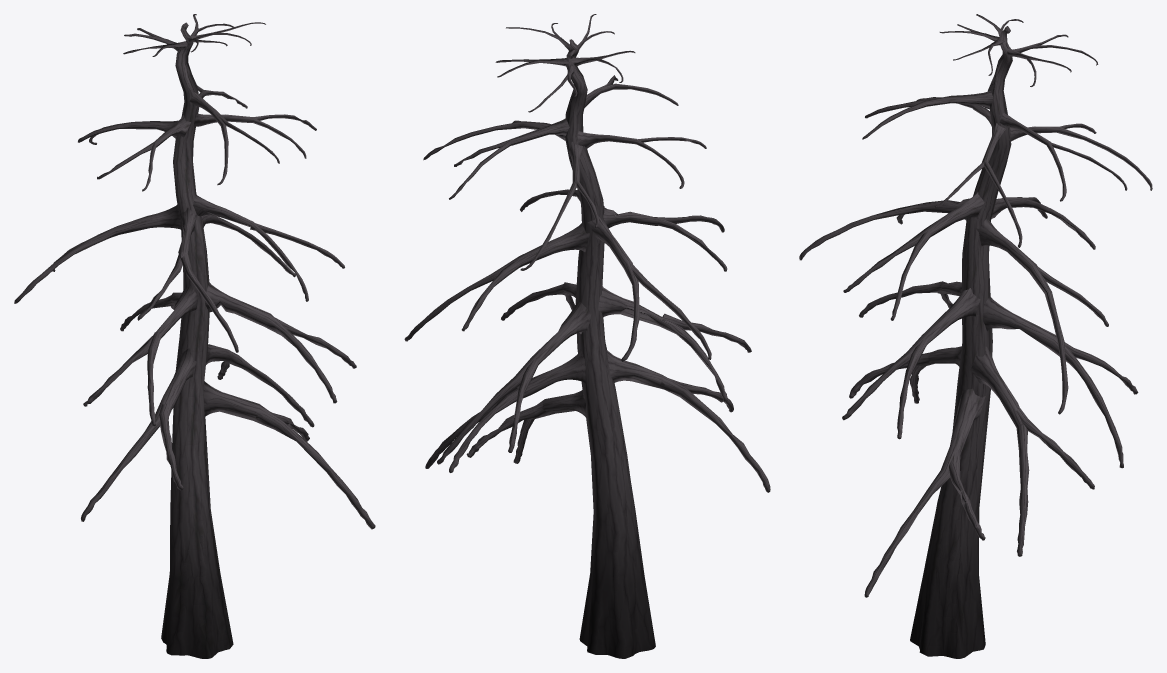
The model's file is nature-deadtree-5.glb.
The picture shows the model from 3 angles, left to right: view 1: azimuth 30°, elevation 25°; view 2: azimuth 150°, elevation 25°; view 3: azimuth 270°, elevation 25°; orthographic projection. The views are drawn at different scales.
Parts seen in each view (by area): view 1: DeadTree_5; view 2: DeadTree_5; view 3: DeadTree_5.
Part boxes in pixels (box(x1,y1,x2,y2)): DeadTree_5: box(14, 14, 375, 658); DeadTree_5: box(404, 14, 770, 658); DeadTree_5: box(799, 14, 1152, 658).
Bounding box in the file's own units: 8.36 × 16.44 × 8.41.
Materials: 1 (1 with a texture image).
